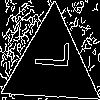L: (26, 39, 69, 70)
